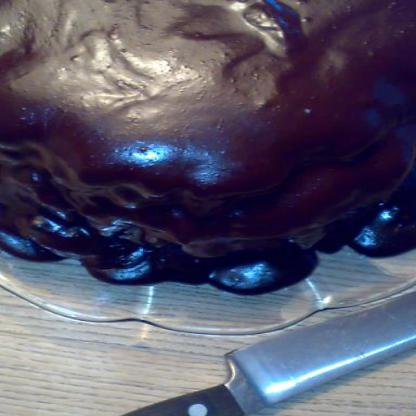knife: (0, 236, 415, 415)
